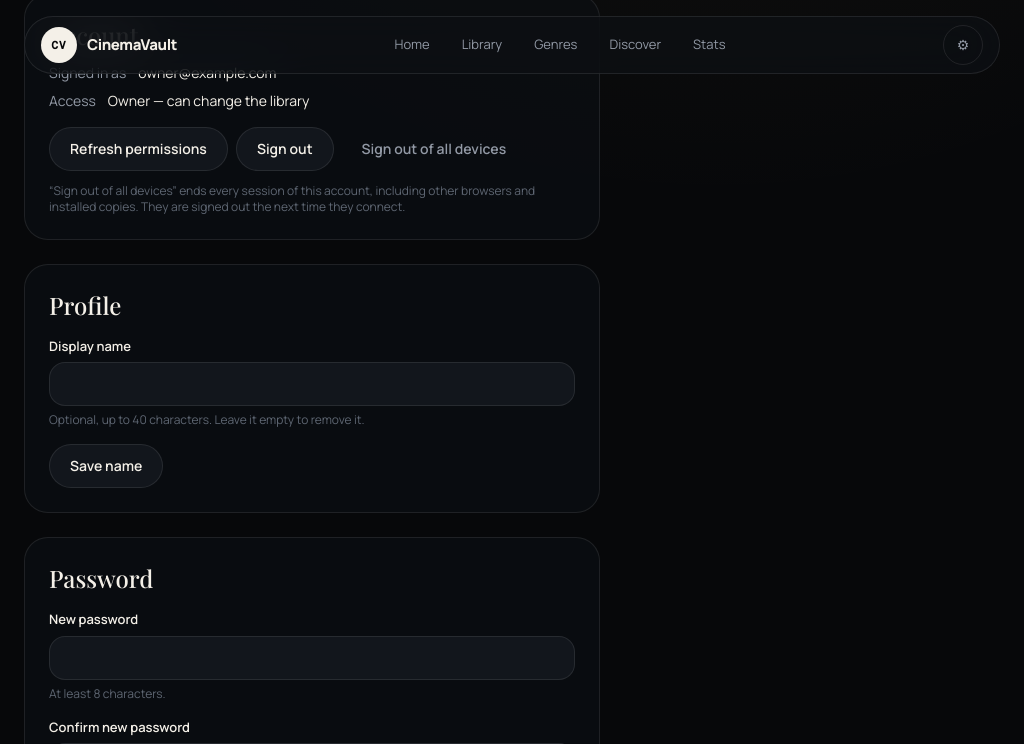
Scenario: profile › says so when the server cannot save it, and keeps what was typed
(page scrolled)
Type "Yogi" into the field labelled "Display name". click: (312,384)
box: x1=49 y1=362 x2=575 y2=406
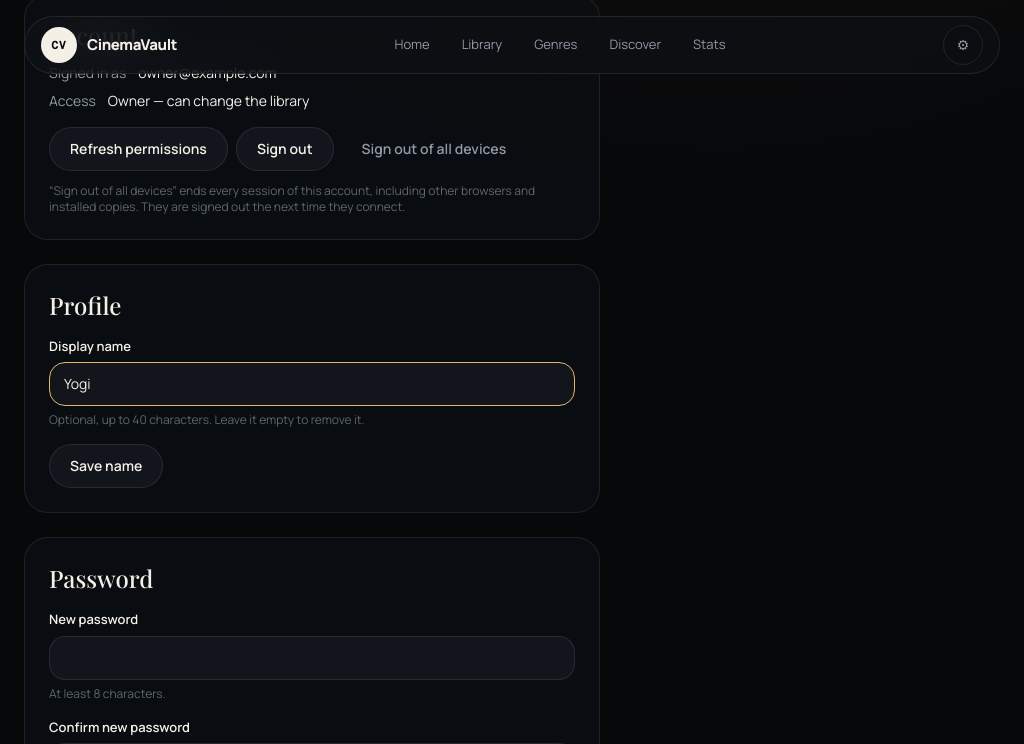
Click the button "Save name". click: (106,466)
box: x1=49 y1=444 x2=163 y2=488
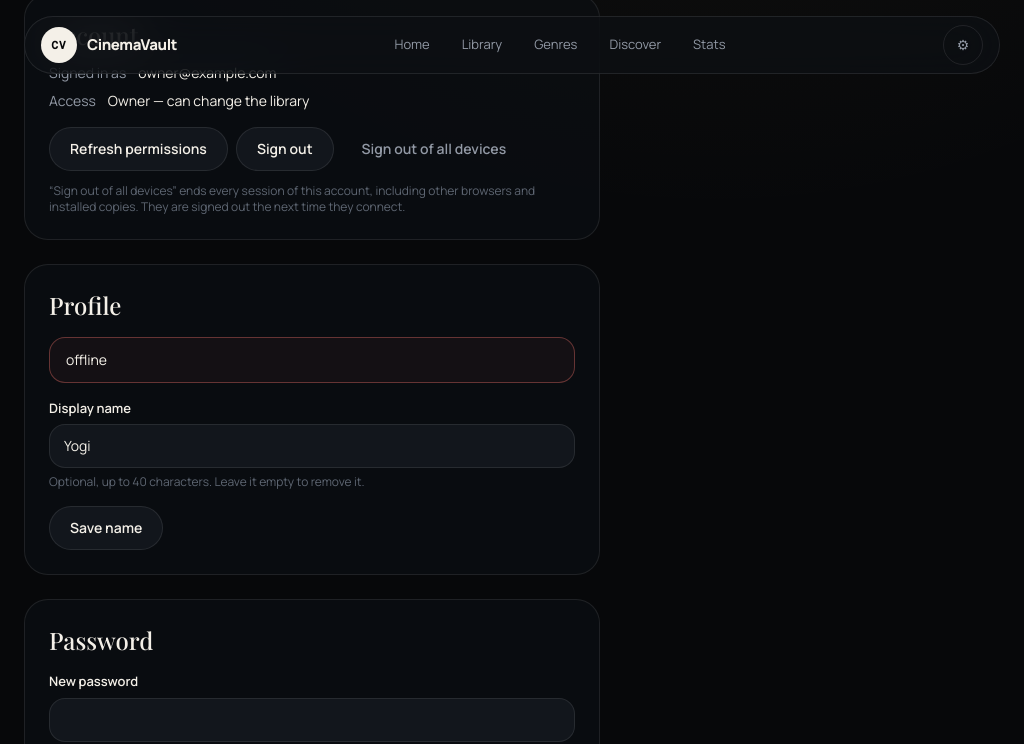
Check: the message reads "offline", box x1=66 y1=350 x2=107 y2=368
